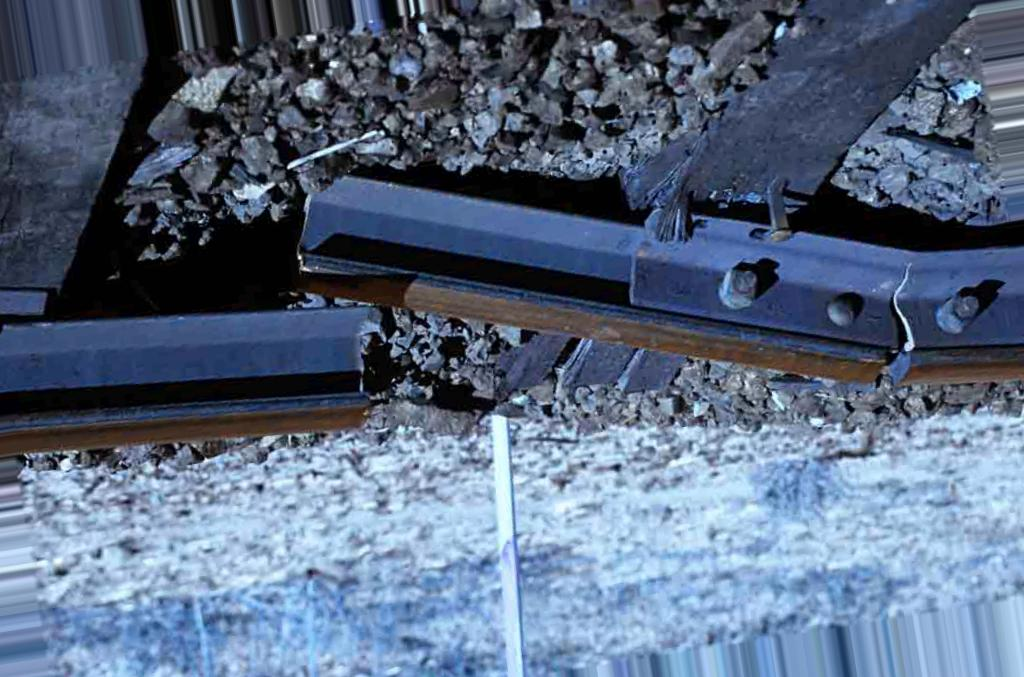tracks_fault: (291, 174, 448, 440)
